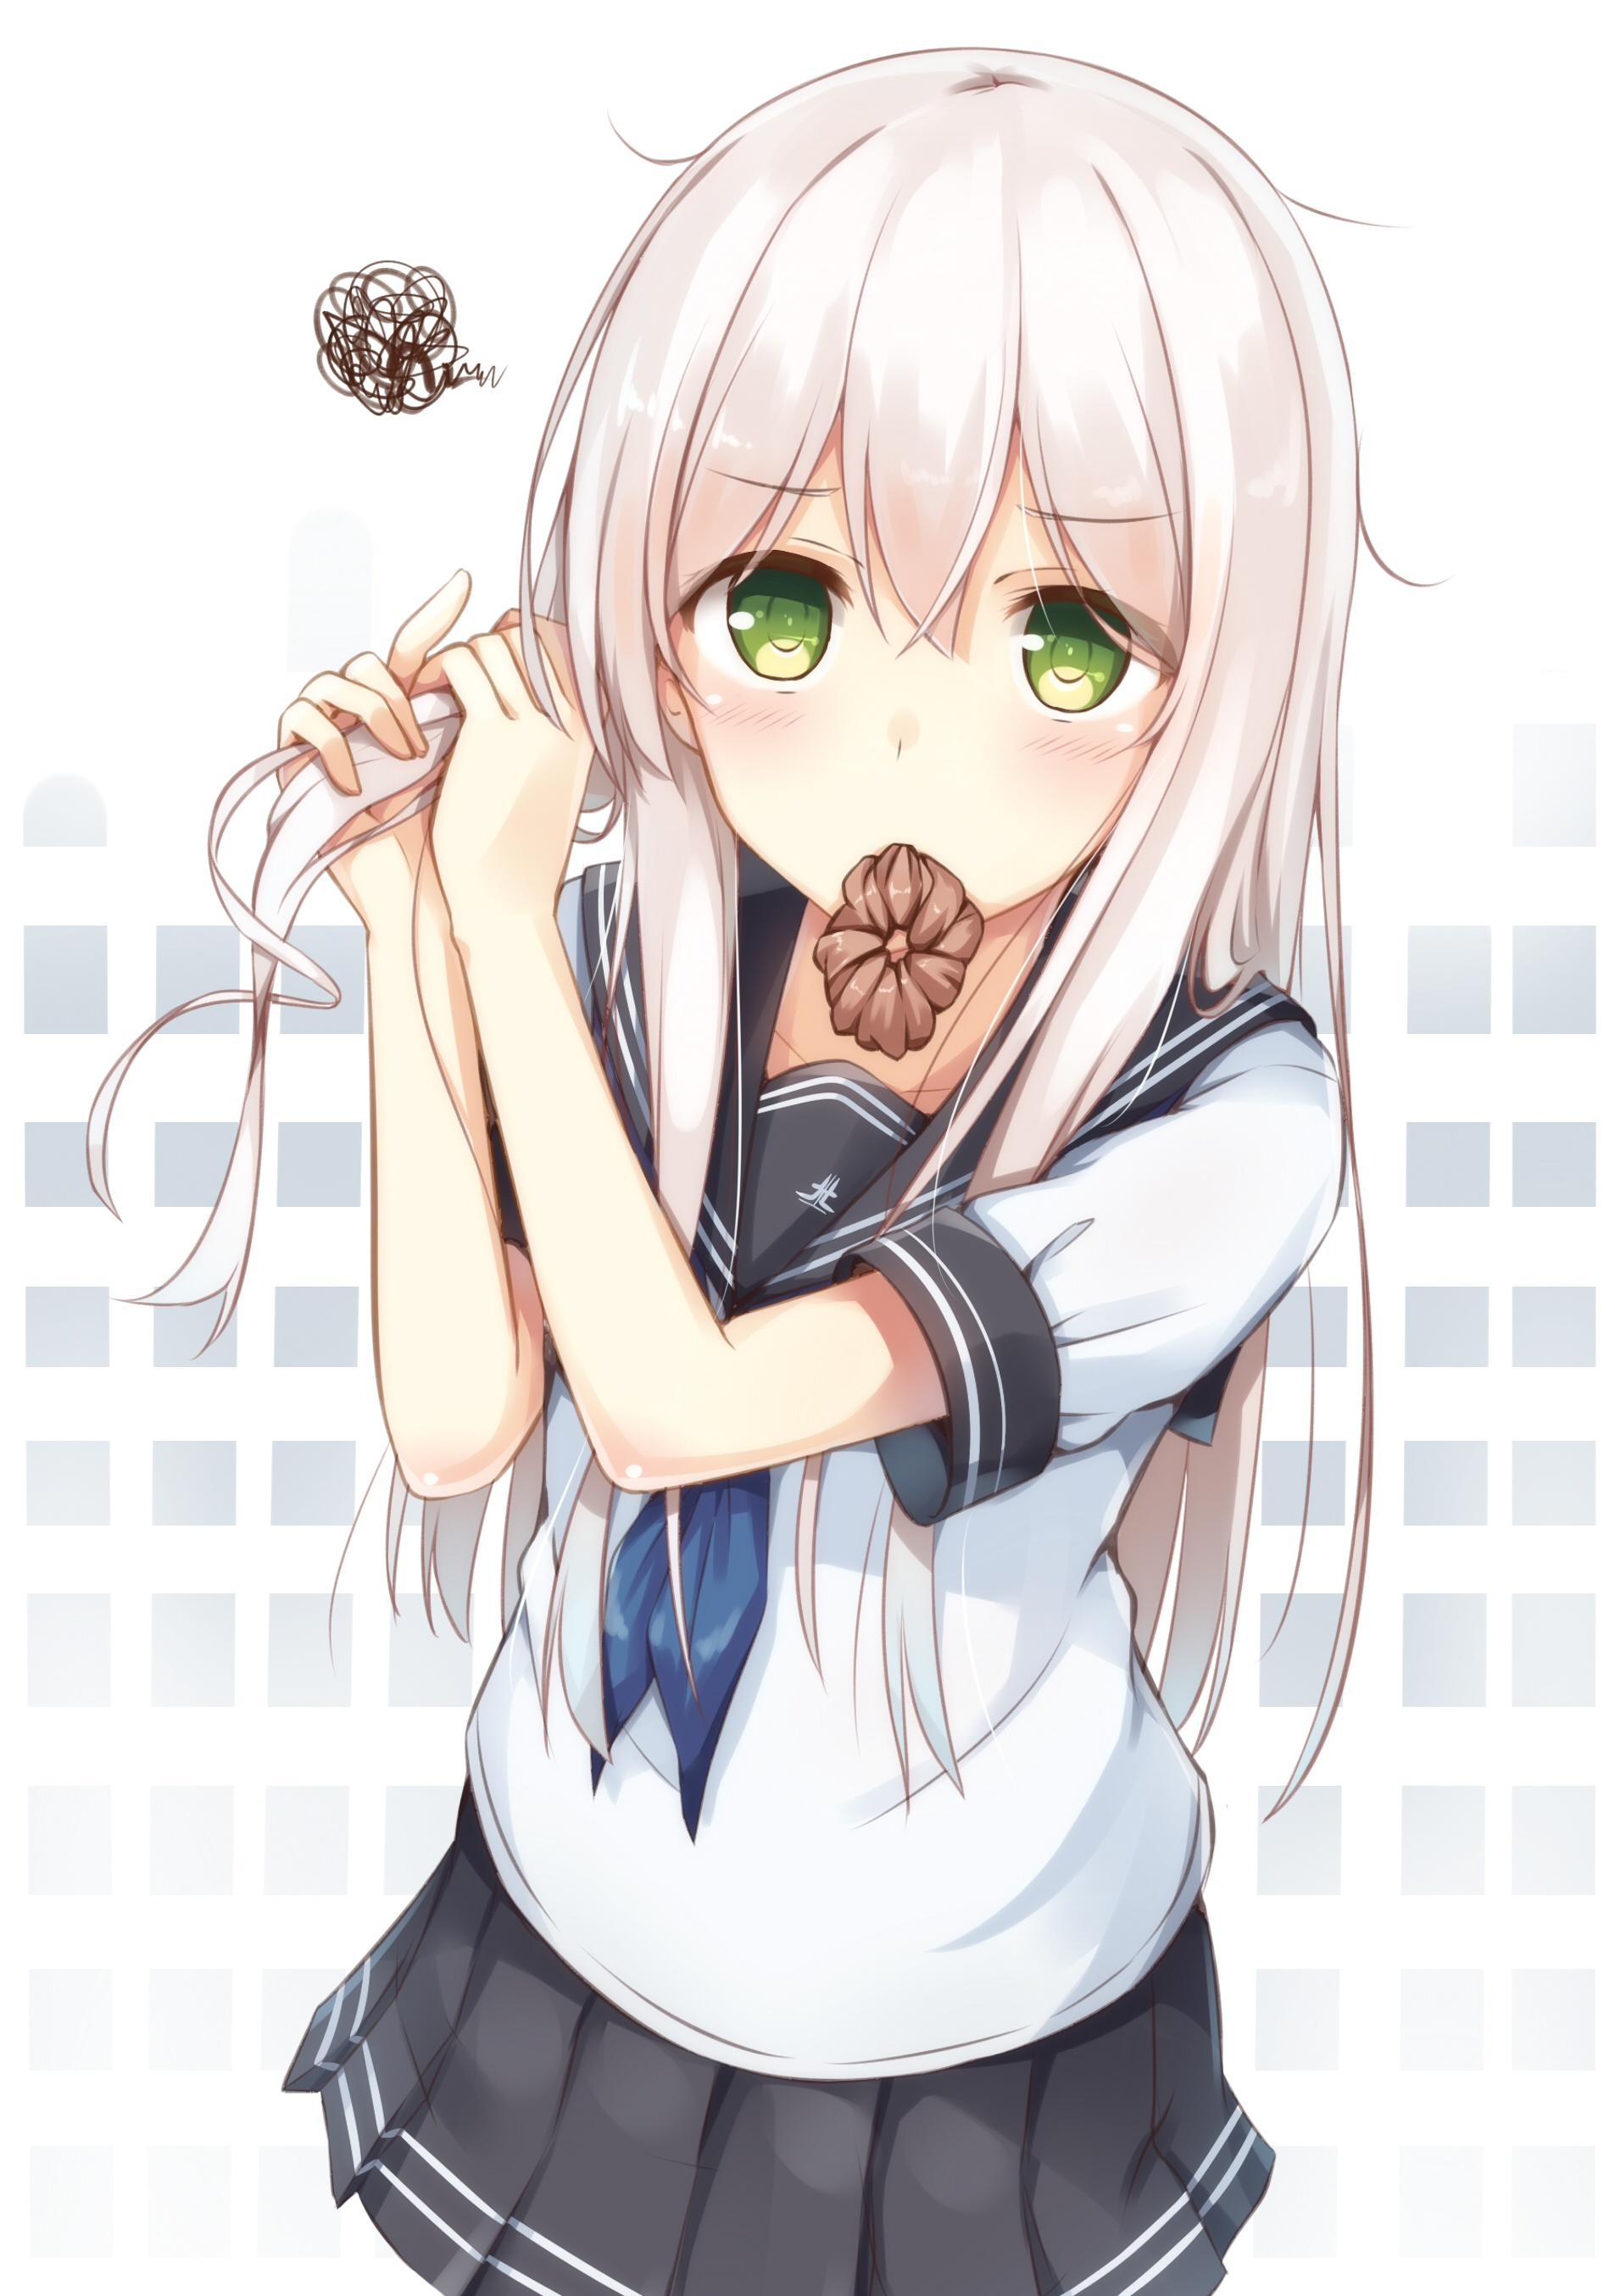纸片人正脸: (553, 35, 1388, 953)
